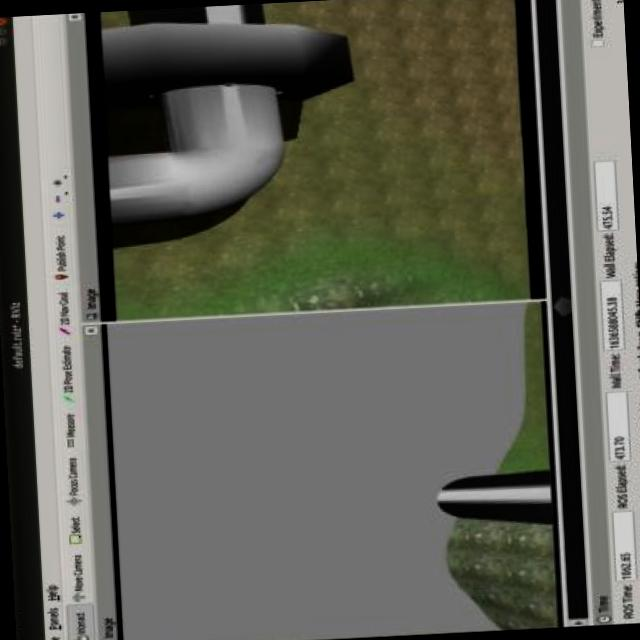gas: (144, 2, 294, 215), (436, 470, 554, 524)
